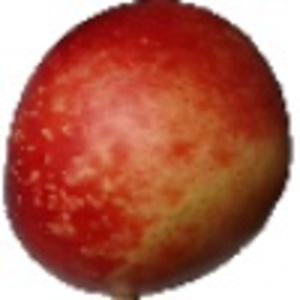nectarina: (3, 1, 295, 300)
